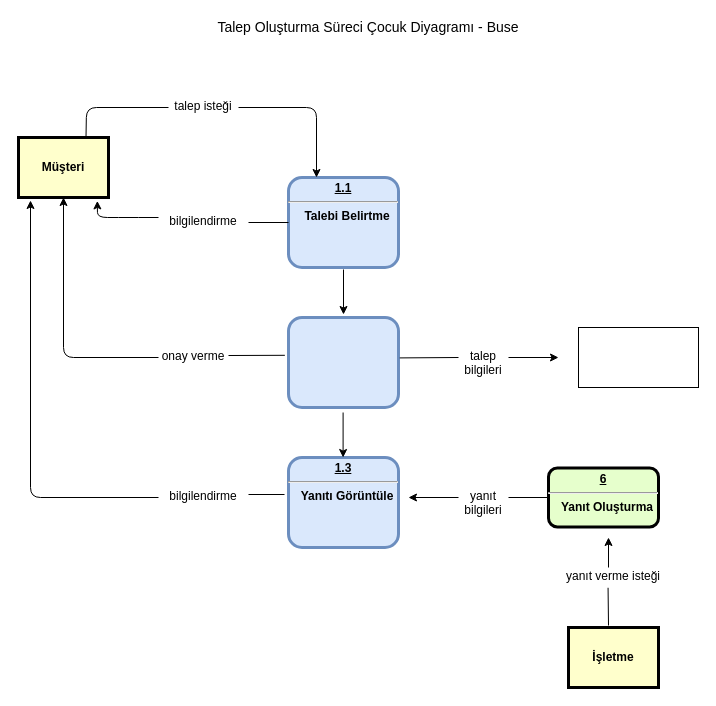
This 716x706 diagram has some shape labels left out. Each missing label, with the centre of its shape:
"1.2 Talebi Onaylama" belongs at point 343,362.
"D2 Talepler" belongs at point 638,357.
